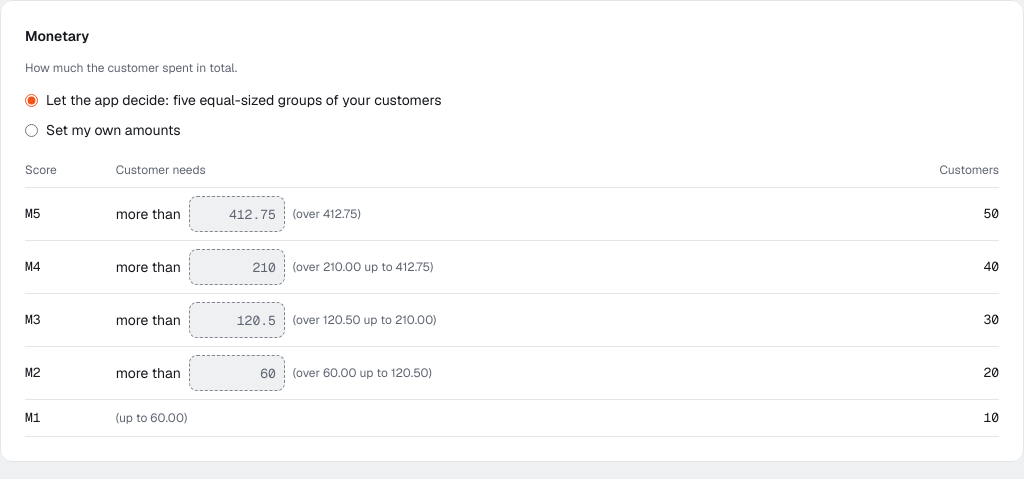
Test: ThresholdCard (U5) › shows what the app decided, in plain words, until the merchant sets their own
The width and height of the screenshot is (1024, 479).
Expected: the field named "Monetary score 5" holds "412.75", [189,196,285,232]
Expected: the field named "Monetary score 5" is disabled, [189,196,285,232]
Click the radio button labelled "Set my own amounts". click: {"x": 32, "y": 130}
box: [25,124,38,136]
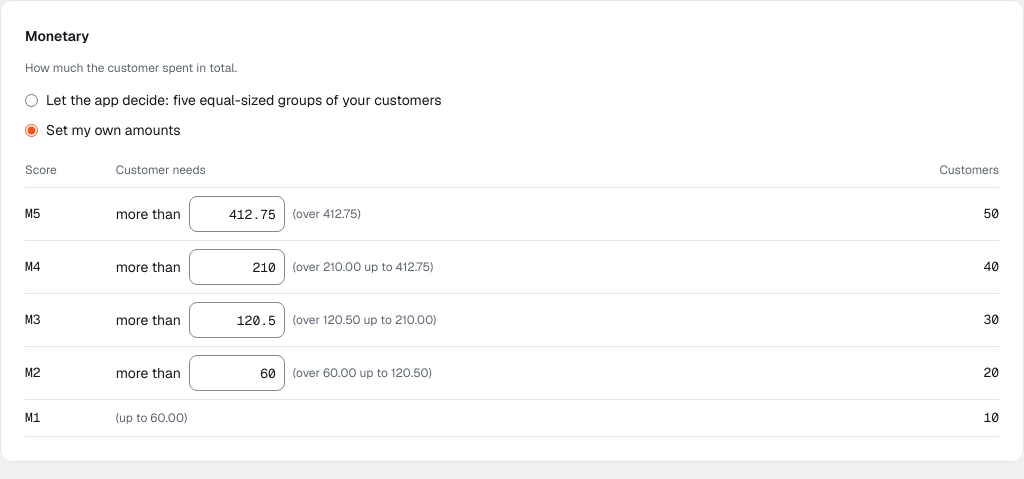
Expected: the field named "Monetary score 5" is enabled, [189,196,285,232]
